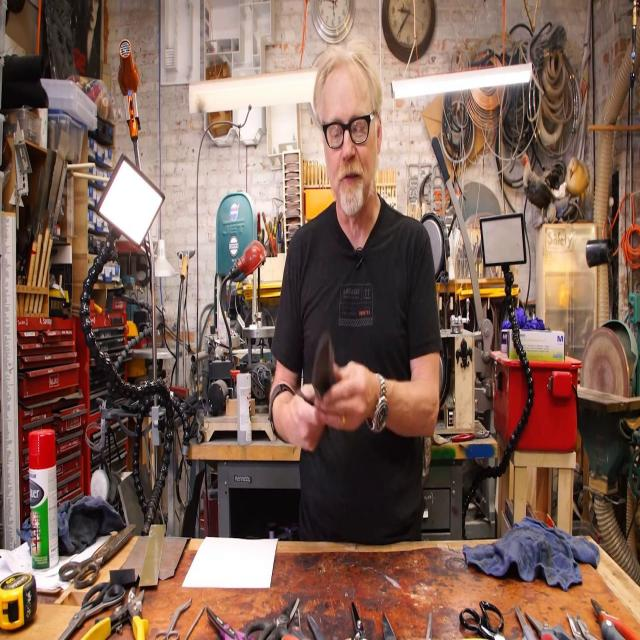scissor: (61, 523, 138, 590), (57, 582, 125, 640), (247, 595, 301, 640), (460, 600, 507, 640), (204, 606, 251, 640), (156, 597, 193, 640), (528, 609, 571, 640), (515, 601, 540, 640), (286, 604, 312, 640)
